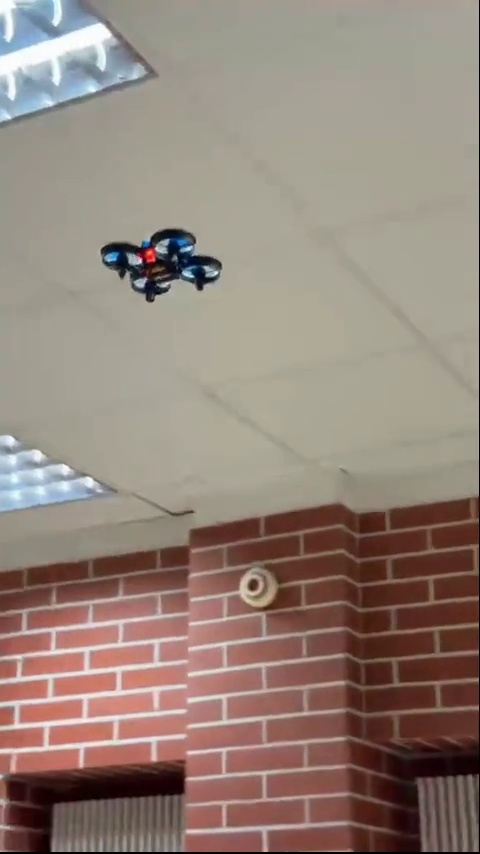drone: (100, 231, 223, 303)
